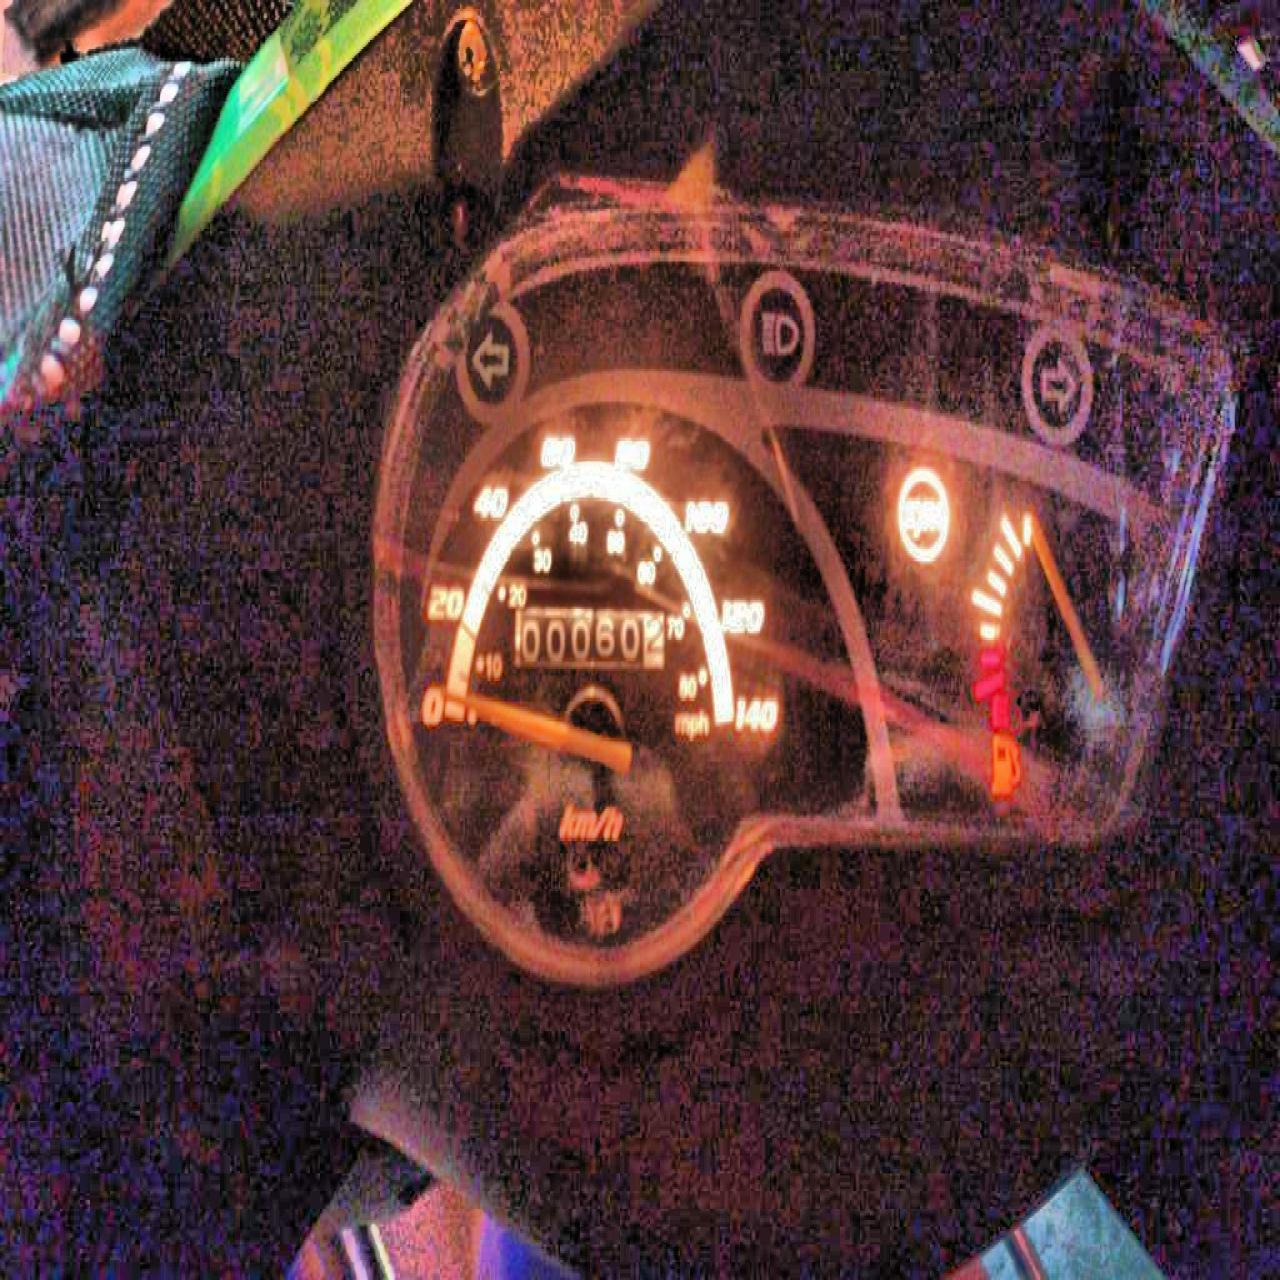0: (619, 613, 639, 658), (544, 616, 564, 660), (520, 616, 539, 662), (569, 616, 589, 658)
2: (644, 609, 664, 653)
6: (594, 611, 614, 656)
odometer: (511, 602, 665, 671)
